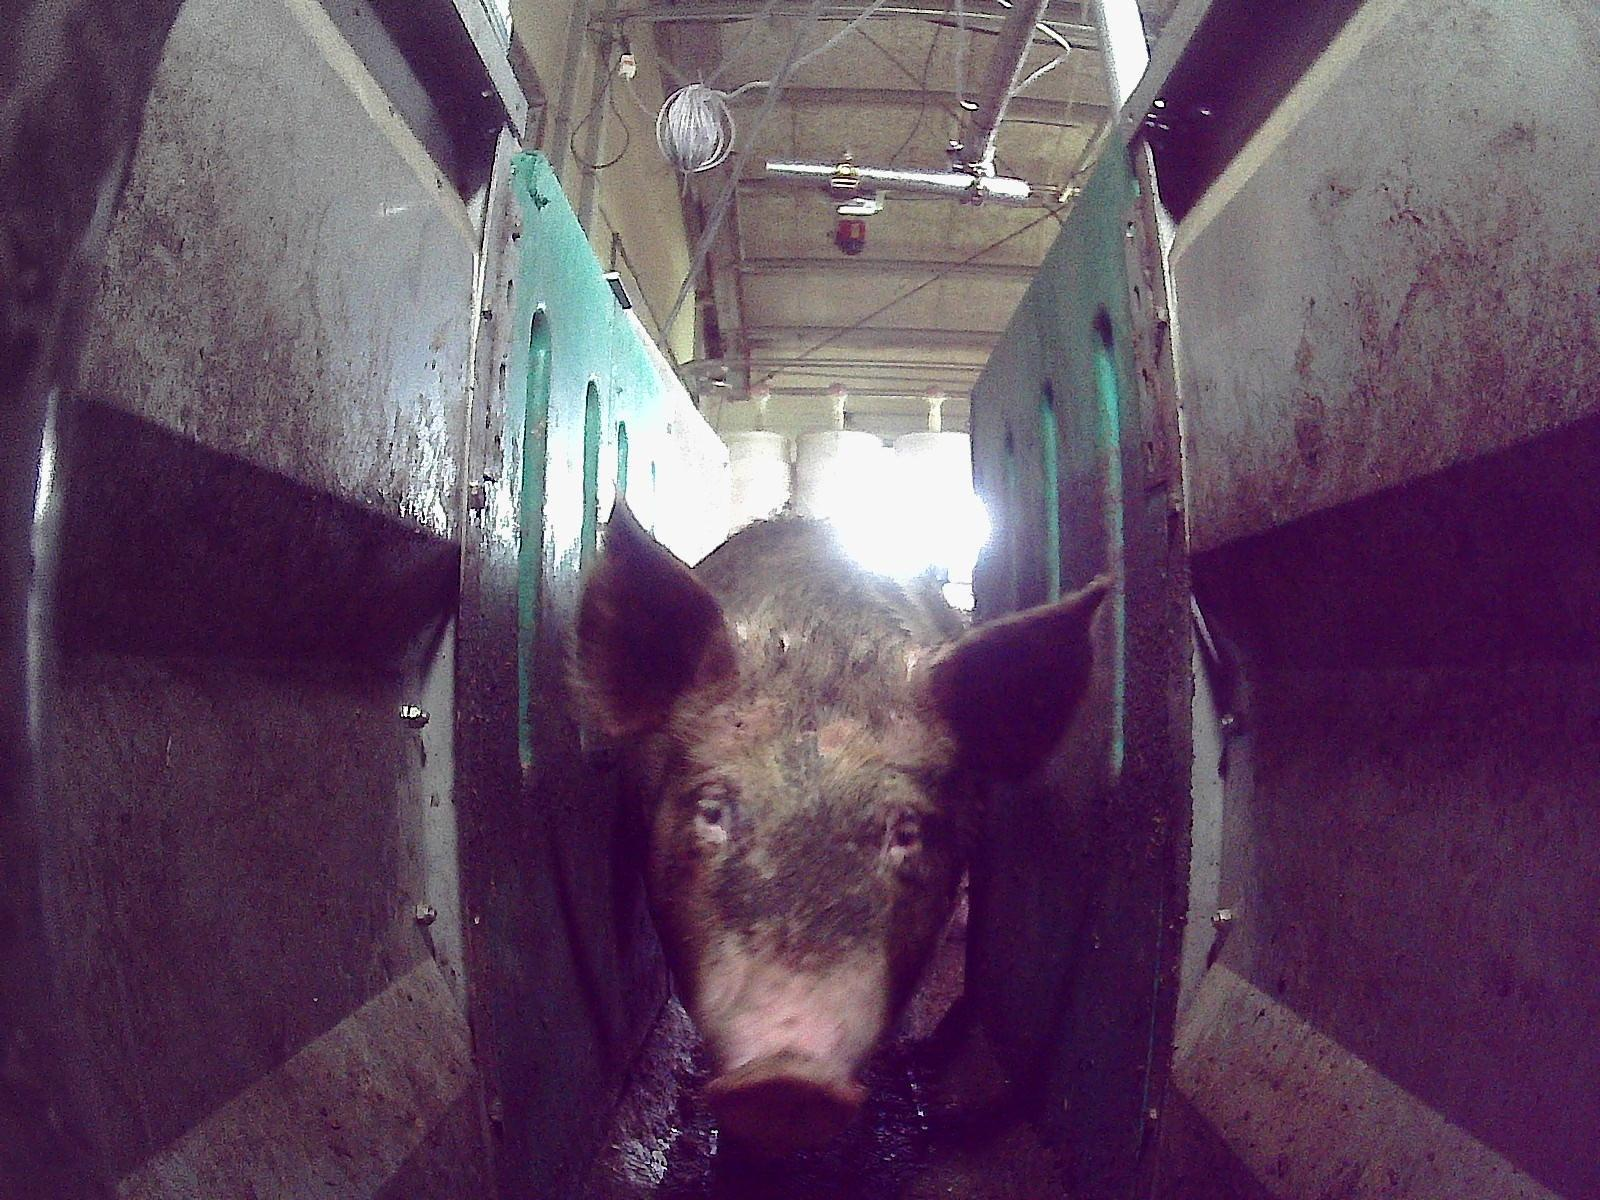Face: (646, 646, 965, 1151)
